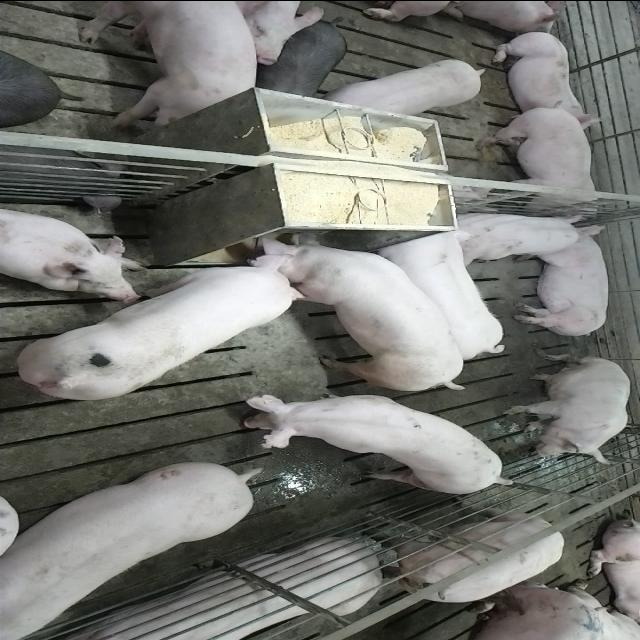Feeding: (15, 244, 308, 402), (244, 224, 466, 388)
Lateral_lying: (512, 222, 612, 338)
Sitting: (502, 354, 632, 464)
Standing: (0, 458, 258, 634), (223, 394, 511, 496), (74, 2, 260, 128), (366, 507, 566, 611), (378, 230, 512, 360), (472, 104, 608, 218), (325, 52, 491, 116), (257, 20, 351, 100)
Sternal_lying: (38, 540, 384, 640), (0, 203, 145, 297), (485, 27, 606, 123), (444, 208, 588, 262)
